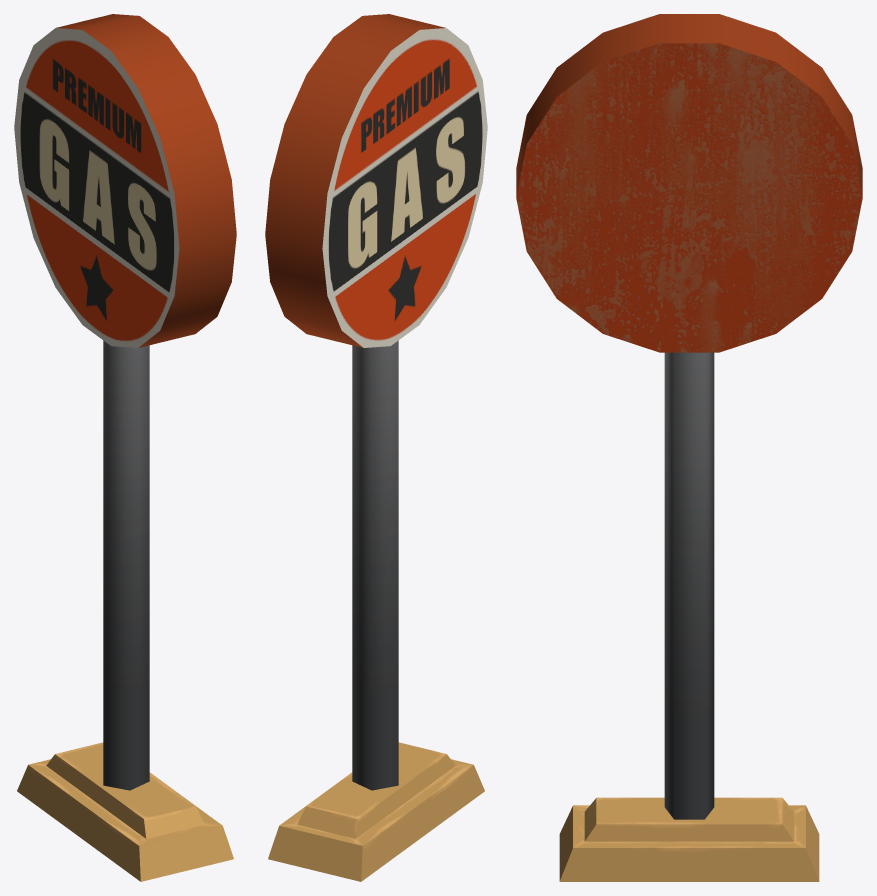
Rendered from sign_round.gltf.
The picture shows the model from 3 angles, left to right: view 1: azimuth 30°, elevation 25°; view 2: azimuth 150°, elevation 25°; view 3: azimuth 270°, elevation 25°; orthographic projection. The views are drawn at different scales.
Visible parts, largest first — view 1: sign_round111; view 2: sign_round111; view 3: sign_round111.
Part boxes in pixels (box(x1,y1,x2,y2)): sign_round111: box(14, 14, 236, 881); sign_round111: box(265, 14, 487, 881); sign_round111: box(516, 14, 862, 881).
Size of the model in its own units: 0.6516 by 5.28 by 2.
Materials: 1 (1 with a texture image).
